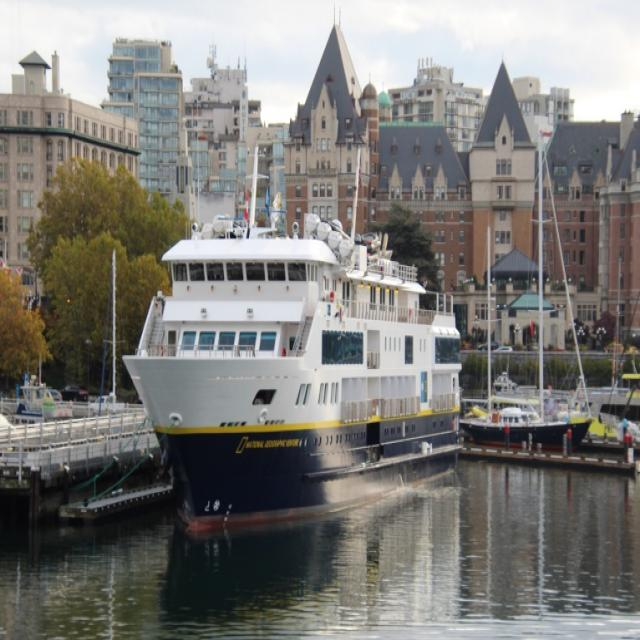cruises: (114, 145, 472, 543)
